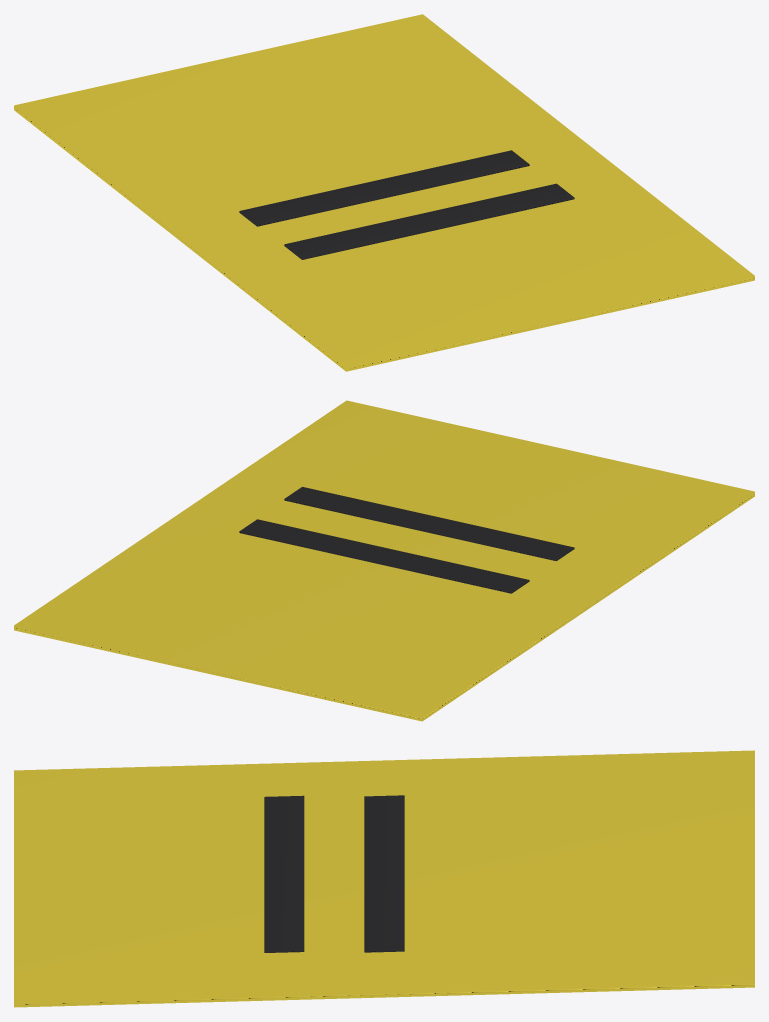
Rendered from smiec_ulotka.glb.
The picture shows the model from 3 angles, top to bottom: view 1: azimuth 30°, elevation 25°; view 2: azimuth 150°, elevation 25°; view 3: azimuth 270°, elevation 25°; orthographic projection. The views are drawn at different scales.
Visible parts, largest first — view 1: Ulotka; view 2: Ulotka; view 3: Ulotka.
Part boxes in pixels (bbox=[...]): Ulotka: bbox=[14, 14, 754, 371]; Ulotka: bbox=[14, 400, 754, 721]; Ulotka: bbox=[14, 750, 754, 1007].
Size of the model in its own units: 0.1051 by 0.00774 by 0.148.
